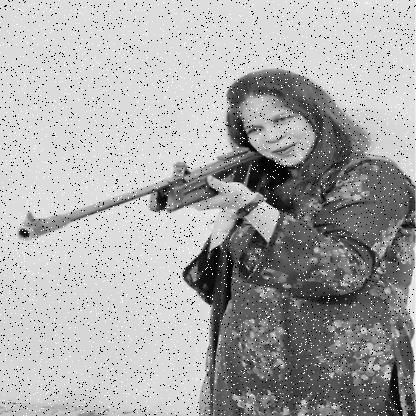rifle: (15, 146, 269, 242)
